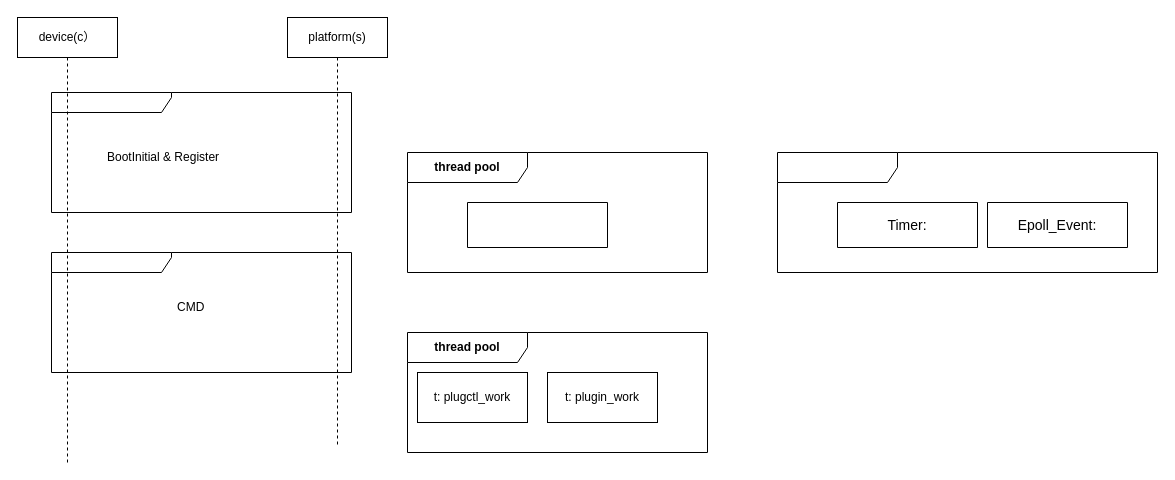
Image size: 1175x480. Some labels were removed from this diagram. Each missing label, with the box of its shape:
event loop: (776, 152, 1158, 272)
plugin-control: (50, 92, 352, 212)
plugin-handle: (50, 252, 352, 372)
ThreadWorker: (466, 202, 608, 248)
